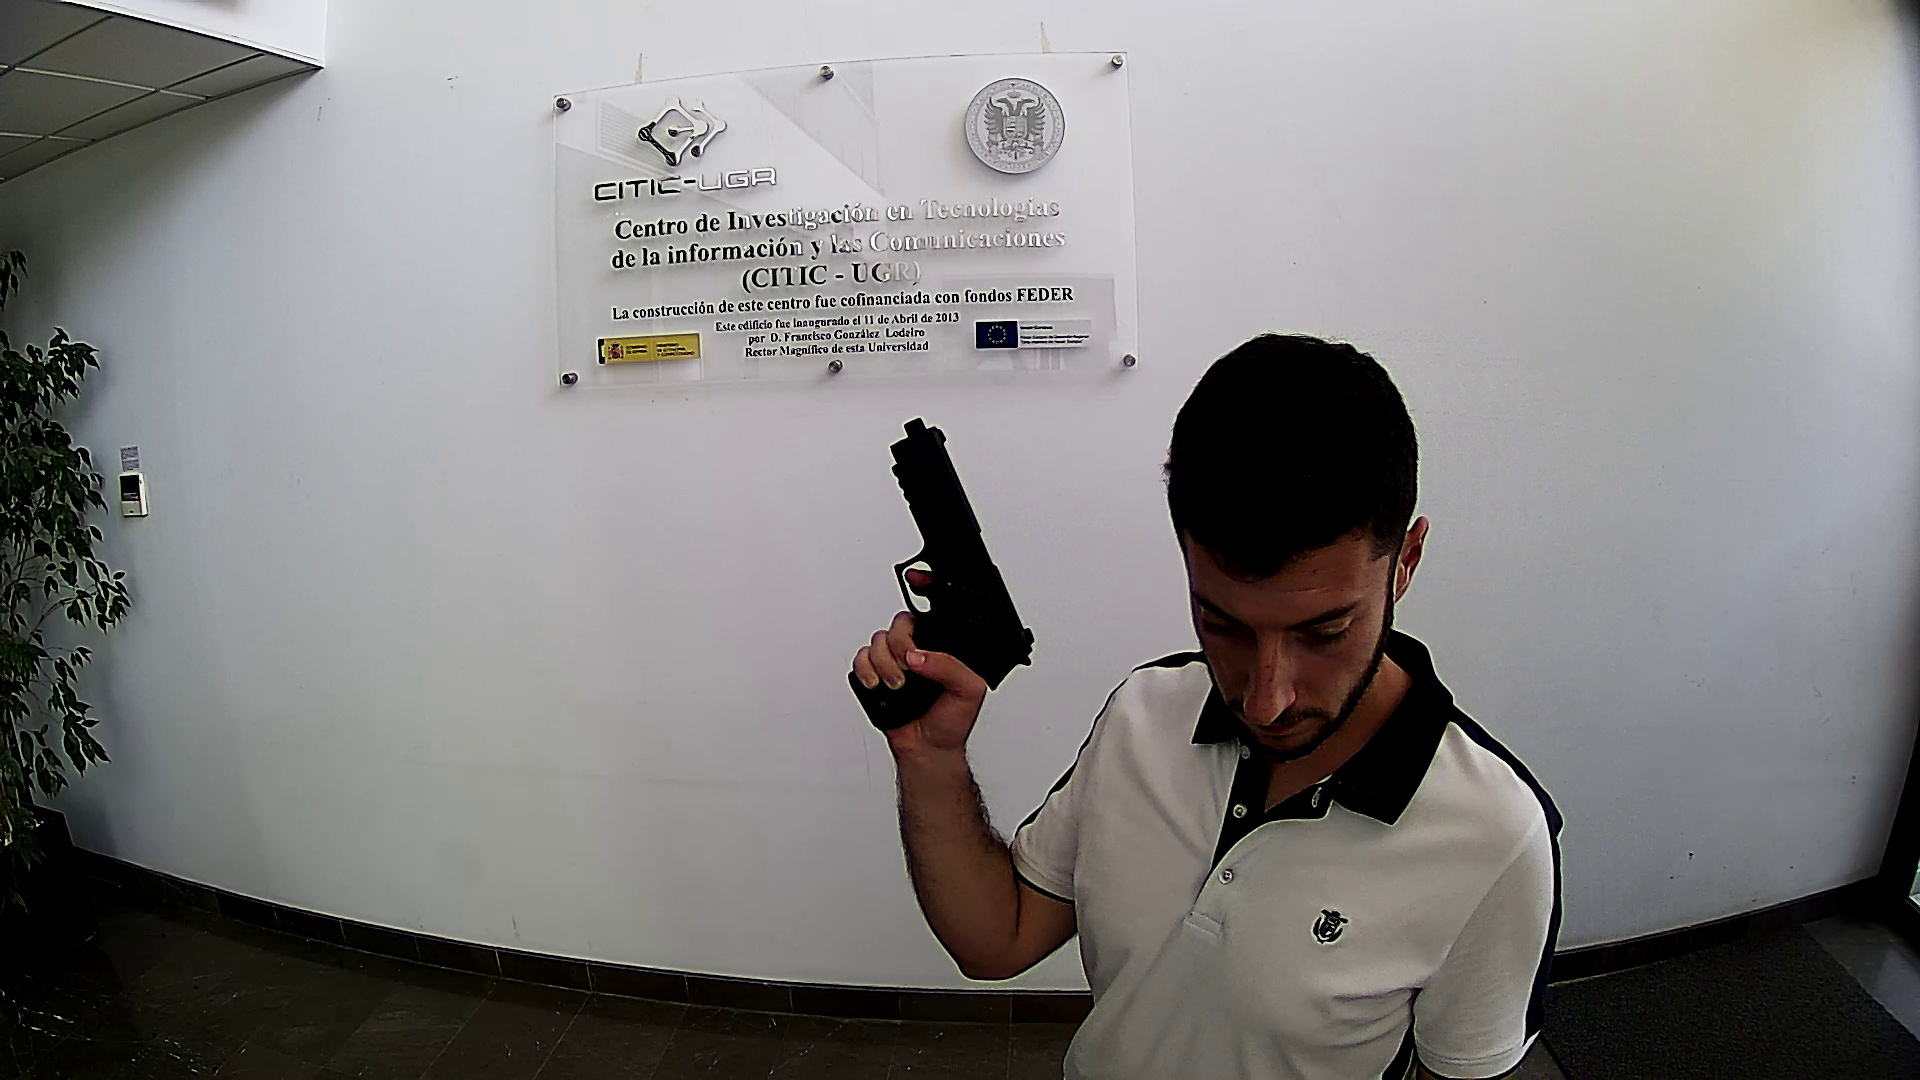pistol: (847, 415, 1038, 735)
